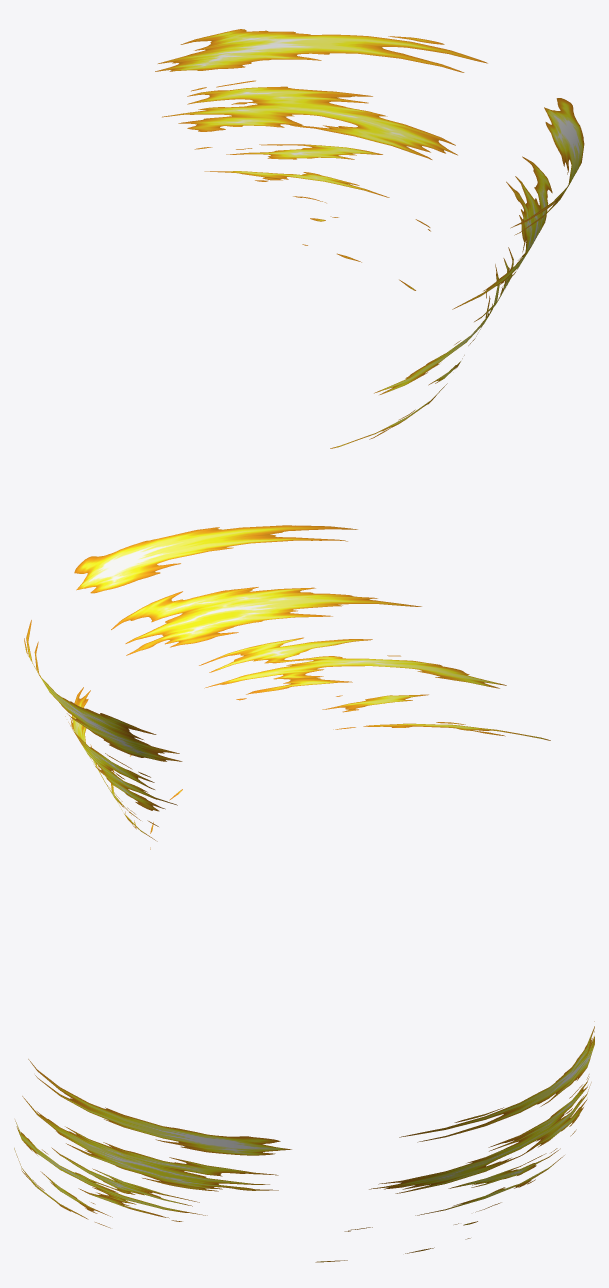
File: banyuanhu_3.FBX
3 views of the same model, one above another, from view 1: azimuth 30°, elevation 25°; view 2: azimuth 150°, elevation 25°; view 3: azimuth 270°, elevation 25° (orthographic). The views are drawn at different scales.
Visible parts, largest first — view 1: banyuanhu_3; view 2: banyuanhu_3; view 3: banyuanhu_3.
Part boxes in pixels (bbox=[...]): banyuanhu_3: bbox=[155, 29, 584, 448]; banyuanhu_3: bbox=[24, 525, 550, 849]; banyuanhu_3: bbox=[14, 1021, 594, 1262].
Size of the model in its own units: 104 by 50 by 120.
